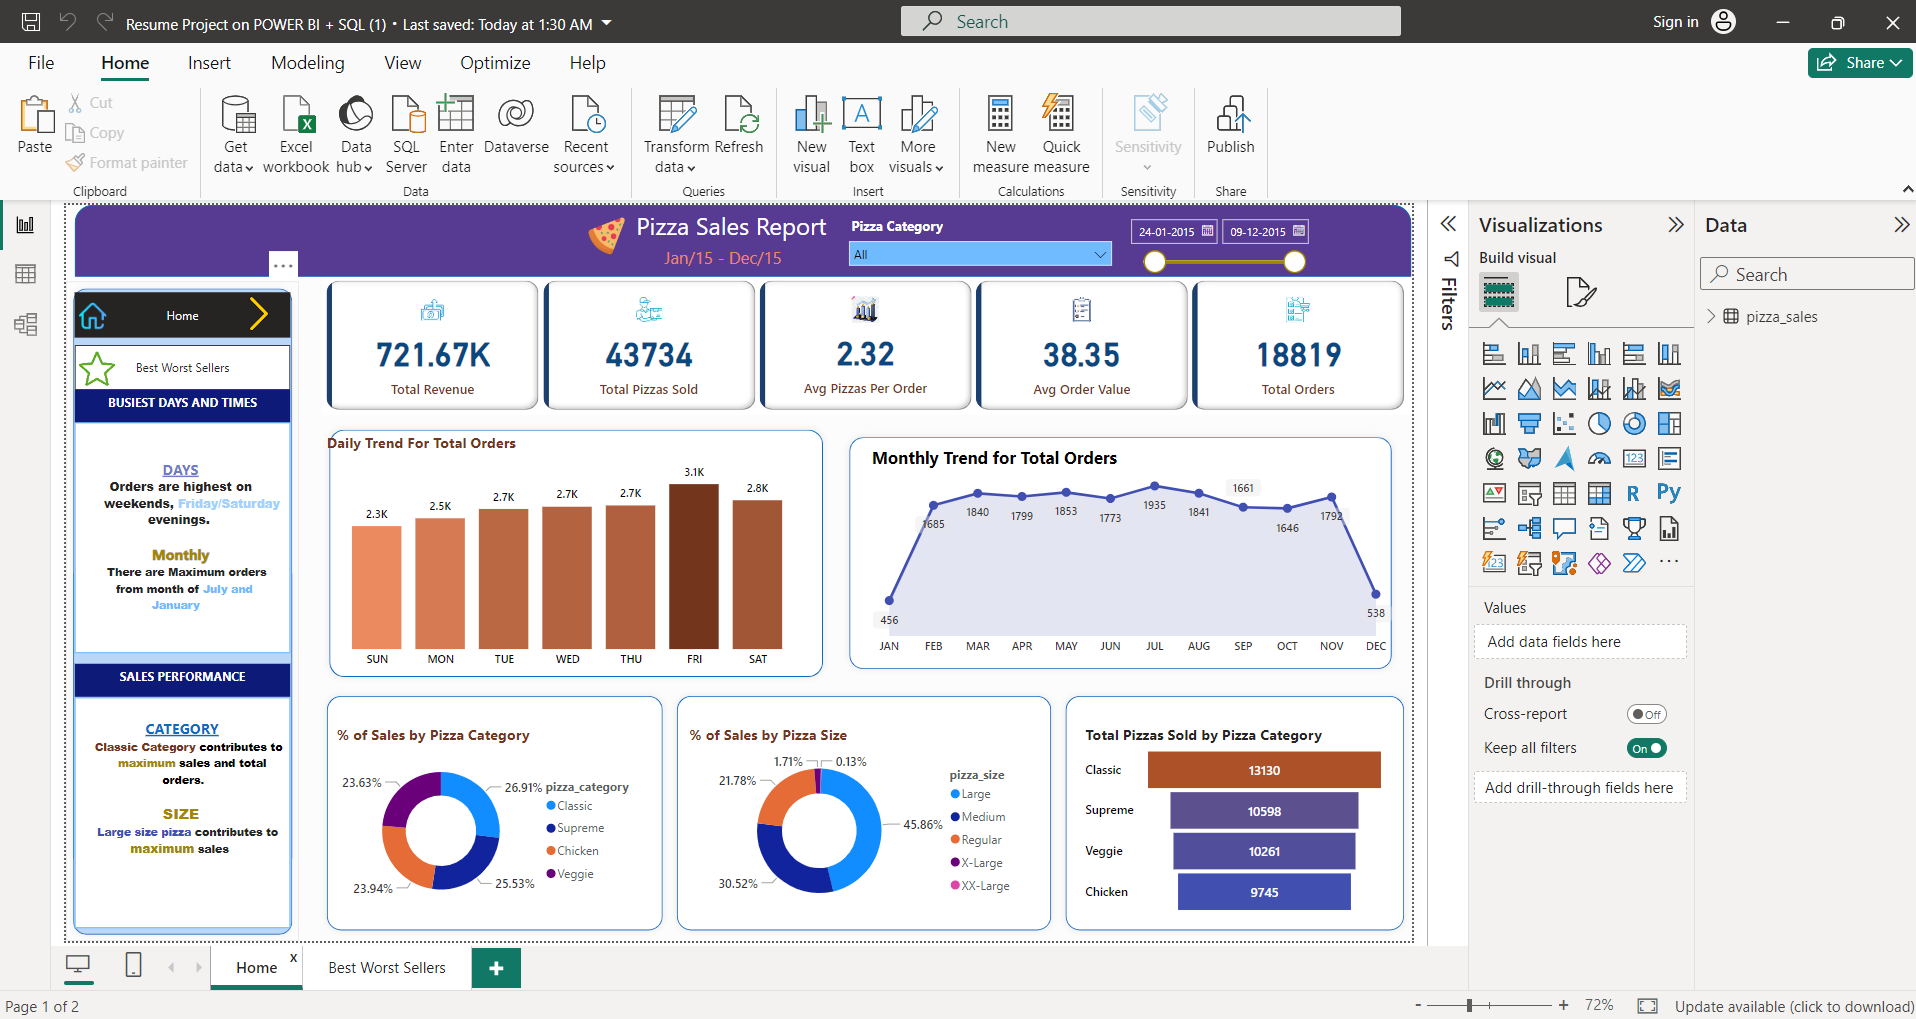

This screenshot's page, from the dashboard's own definition file:
{"tool":"powerbi","page":{"name":"Home","canvas":[1500,820],"ordinal":0},"visuals":[{"type":"shape","box":[864.3,250,620,274.3],"z":0},{"type":"cardVisual","fields":{"Data":["pizza_sales.Total Revenue","pizza_sales.Total Pizzas Sold","pizza_sales.Avg Pizzas Per Order","pizza_sales.Avg Order Value","pizza_sales.Total Orders"]},"box":[285.7,80,1214.3,154.3],"z":1000},{"type":"shape","box":[10,0,1488.6,80],"z":2000},{"type":"textbox","box":[603.1,0,276.3,50.4],"z":3000},{"type":"textbox","box":[661.6,40.6,169.1,39],"z":4000},{"type":"image","box":[557.5,8.1,91,52],"z":5000},{"type":"shape","box":[285.7,242.9,565.7,291.4],"z":6000},{"type":"columnChart","title":"Daily Trend For Total Orders","fields":{"Y":["pizza_sales.Total Orders"],"Category":["pizza_sales.Order Day"]},"box":[285.7,252.9,547.1,271.4],"z":7000},{"type":"areaChart","title":"Monthly Trend for Total Orders","fields":{"Category":["pizza_sales.Order Month"],"Y":["pizza_sales.Total Orders"]},"box":[892.9,268.6,591.4,241.4],"z":8000},{"type":"shape","box":[282.9,538.6,390,277.1],"z":9000},{"type":"shape","box":[1105.7,538.6,392.9,277.1],"z":10000},{"type":"shape","box":[672.9,538.6,432.9,277.1],"z":11000},{"type":"shape","box":[0,84.3,260,735.7],"z":12000},{"type":"donutChart","title":"% of Sales by Pizza Category","fields":{"Category":["pizza_sales.pizza_category"],"Y":["pizza_sales.Total Revenue"]},"box":[297.1,577.1,351.4,217.1],"z":13000},{"type":"donutChart","title":"% of Sales by Pizza Size","fields":{"Category":["pizza_sales.pizza_size"],"Y":["pizza_sales.Total Revenue"]},"box":[688.6,577.1,380,217.1],"z":14000},{"type":"funnel","title":"Total Pizzas Sold by Pizza Category","fields":{"Category":["pizza_sales.pizza_category"],"Y":["pizza_sales.Total Pizzas Sold"]},"box":[1130,577.1,344.3,217.1],"z":15000},{"type":"textbox","box":[10,205.7,240,37.1],"z":16000},{"type":"textbox","box":[10,242.9,240,257.1],"z":17000},{"type":"textbox","box":[10,548.6,240,257.1],"z":18000},{"type":"textbox","box":[10,511.4,240,37.1],"z":19000},{"type":"slicer","fields":{"Values":["pizza_sales.pizza_category"]},"box":[861.4,8.6,312.9,70],"z":20000},{"type":"slicer","fields":{"Values":["pizza_sales.order_date"]},"box":[1174.3,5.7,227.1,72.9],"z":21000},{"type":"pageNavigator","box":[10,97.1,240,50],"z":21001},{"type":"pageNavigator","box":[10,155.7,240,50],"z":21002},{"type":"image","box":[181.4,97.1,68.6,47.1],"z":21003},{"type":"image","box":[10,100,40,47.1],"z":21004},{"type":"image","box":[10,155.7,50,52.9],"z":21005}]}

Visuals, with their boxes on the page's 1500x820 design canvas (x1, y1, x2, y2). These are canvas units, not pixel positions in the 1916x1019 screenshot, which may show the page scaled, cropped or inside an application window:
shape: bbox=[864, 250, 1484, 524]
cardVisual - pizza_sales.Total Revenue x pizza_sales.Total Pizzas Sold: bbox=[286, 80, 1500, 234]
shape: bbox=[10, 0, 1499, 80]
textbox: bbox=[603, 0, 879, 50]
textbox: bbox=[662, 41, 831, 80]
image: bbox=[558, 8, 648, 60]
shape: bbox=[286, 243, 851, 534]
"Daily Trend For Total Orders" columnChart: bbox=[286, 253, 833, 524]
"Monthly Trend for Total Orders" areaChart: bbox=[893, 269, 1484, 510]
shape: bbox=[283, 539, 673, 816]
shape: bbox=[1106, 539, 1499, 816]
shape: bbox=[673, 539, 1106, 816]
shape: bbox=[0, 84, 260, 820]
"% of Sales by Pizza Category" donutChart: bbox=[297, 577, 648, 794]
"% of Sales by Pizza Size" donutChart: bbox=[689, 577, 1069, 794]
"Total Pizzas Sold by Pizza Category" funnel: bbox=[1130, 577, 1474, 794]
textbox: bbox=[10, 206, 250, 243]
textbox: bbox=[10, 243, 250, 500]
textbox: bbox=[10, 549, 250, 806]
textbox: bbox=[10, 511, 250, 548]
slicer - pizza_sales.pizza_category: bbox=[861, 9, 1174, 79]
slicer - pizza_sales.order_date: bbox=[1174, 6, 1401, 79]
pageNavigator: bbox=[10, 97, 250, 147]
pageNavigator: bbox=[10, 156, 250, 206]
image: bbox=[181, 97, 250, 144]
image: bbox=[10, 100, 50, 147]
image: bbox=[10, 156, 60, 209]
